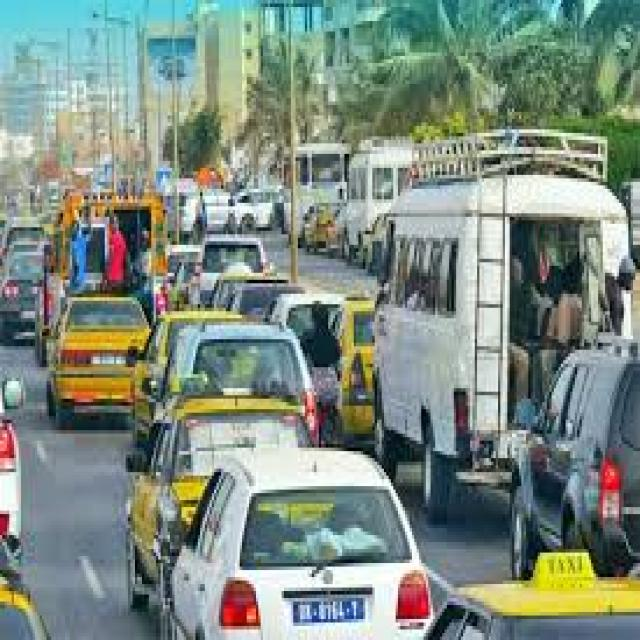bus tata: (345, 142, 414, 264)
car rapide: (38, 193, 167, 362)
ndiaga ndiaye: (376, 131, 630, 519)
particulier: (131, 326, 312, 602), (174, 452, 434, 640), (531, 350, 640, 576), (50, 298, 151, 427)
